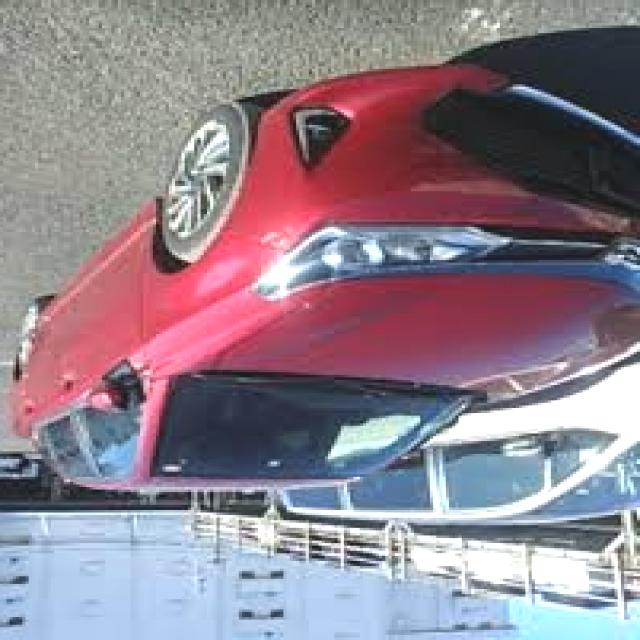maroon: (9, 67, 640, 489)
white: (427, 386, 636, 526)
